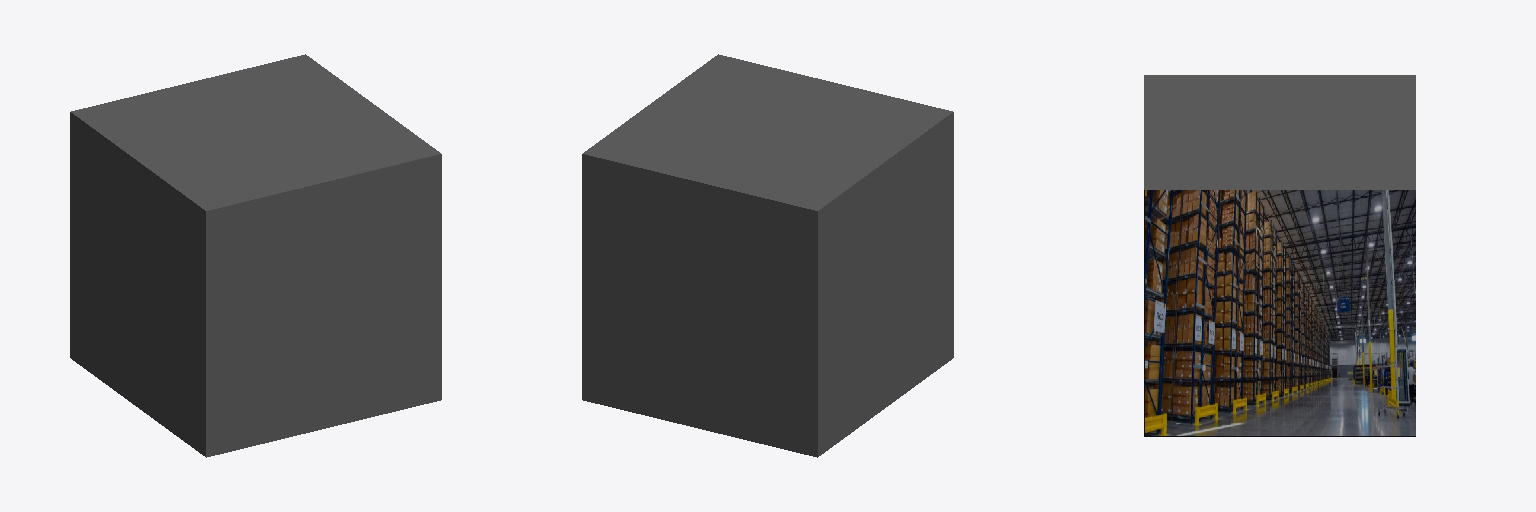
3 views of the same model, side by side, from view 1: azimuth 30°, elevation 25°; view 2: azimuth 150°, elevation 25°; view 3: azimuth 270°, elevation 25° (orthographic).
Parts seen in each view (by area): view 1: Cube.001; view 2: Cube.001; view 3: Cube.001.
Part boxes in pixels (bbox=[...]): Cube.001: bbox=[70, 54, 441, 457]; Cube.001: bbox=[582, 54, 953, 457]; Cube.001: bbox=[1144, 75, 1415, 436].
Bounding box in the file's own units: 2 × 2 × 2.
2 materials, 1 textured.